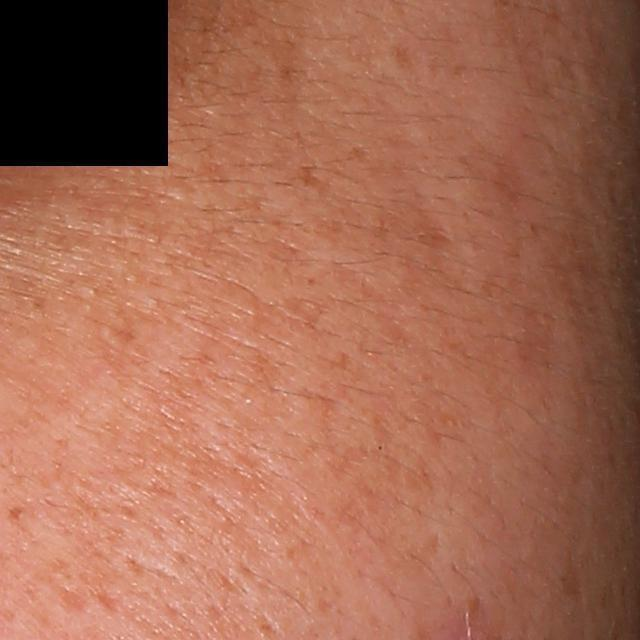melasma: (294, 160, 323, 186), (392, 39, 416, 69)
